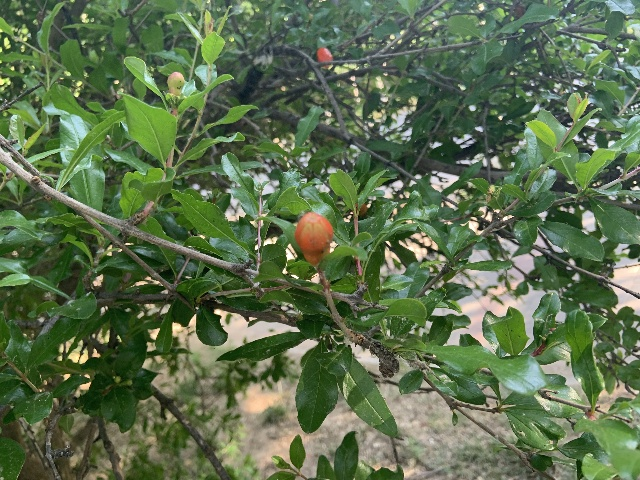bud: (294, 211, 333, 266), (167, 71, 184, 95), (316, 46, 333, 67)
